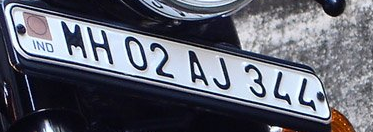0: (122, 34, 150, 71)
2: (148, 40, 176, 79)
3: (242, 62, 268, 99)
4: (272, 68, 293, 107), (297, 77, 317, 112)
A: (186, 48, 210, 88)
H: (86, 23, 117, 65)
J: (210, 54, 233, 92)
M: (57, 18, 91, 59)
